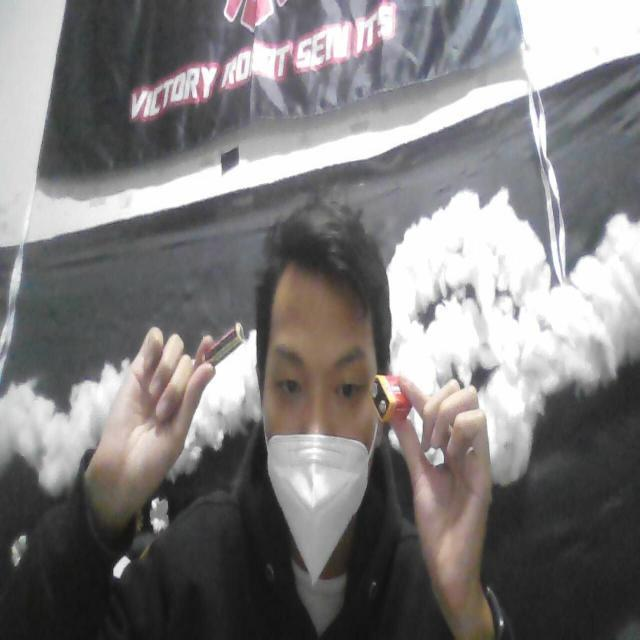Hazard: (368, 374, 413, 431), (201, 322, 246, 368)
